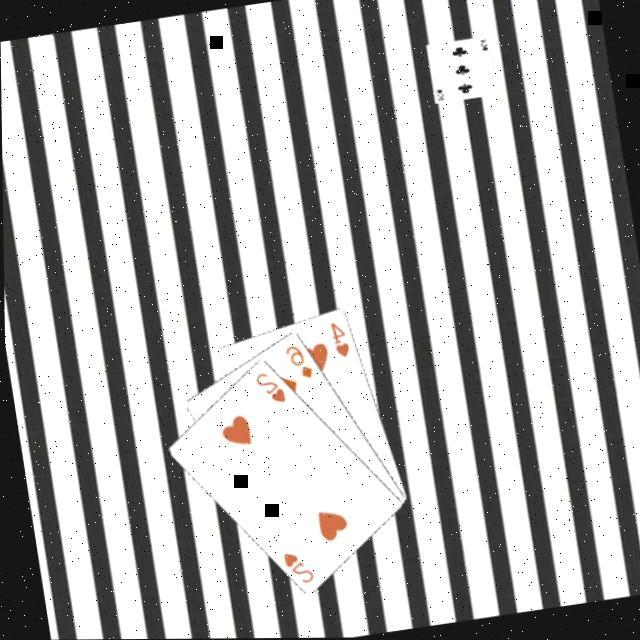2H: (278, 546, 318, 588), (252, 366, 289, 408)
4H: (328, 316, 354, 361)
6D: (281, 338, 318, 384)
